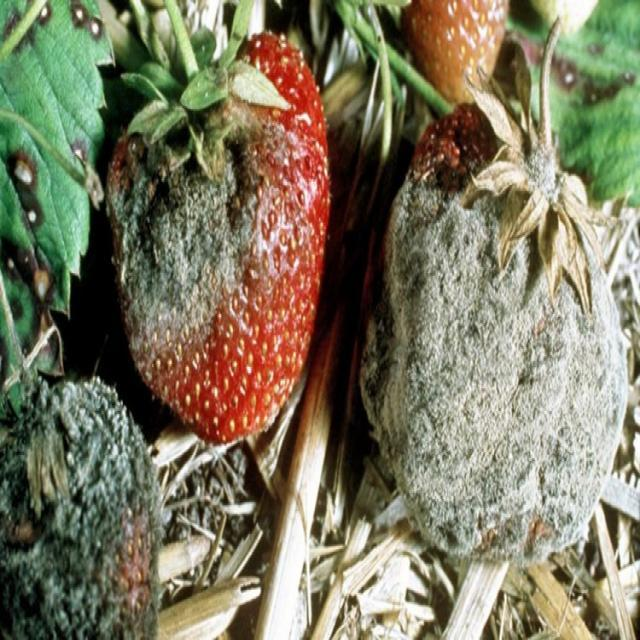Moho gris: (362, 99, 629, 558), (106, 46, 330, 428), (0, 365, 158, 640)
